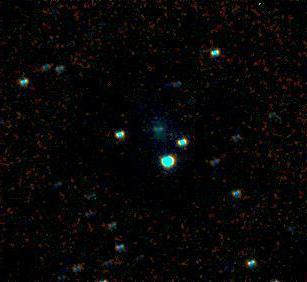star: (249, 0, 279, 17)
